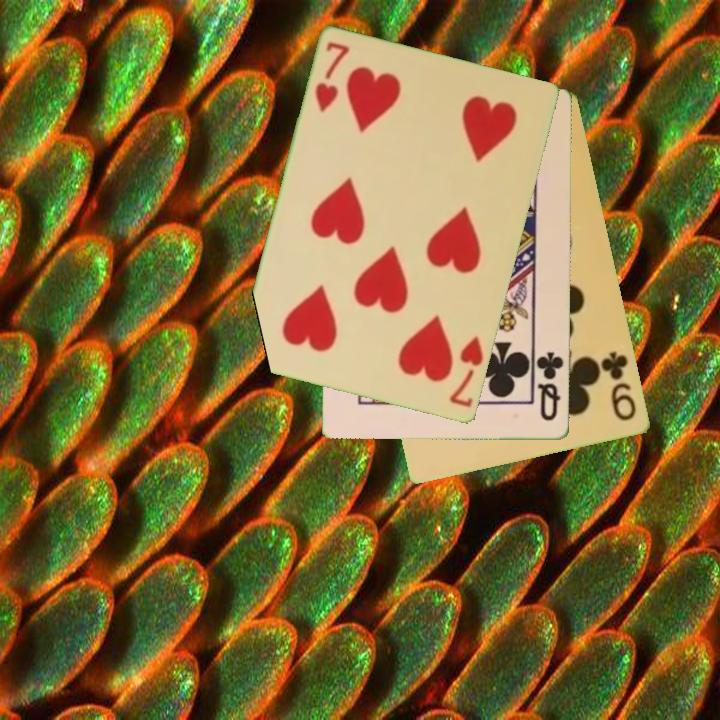7h: (311, 39, 353, 116), (446, 333, 487, 411)
9c: (598, 348, 640, 424)
Qc: (532, 346, 567, 424)
